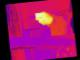Foc: (28, 3, 58, 30)
